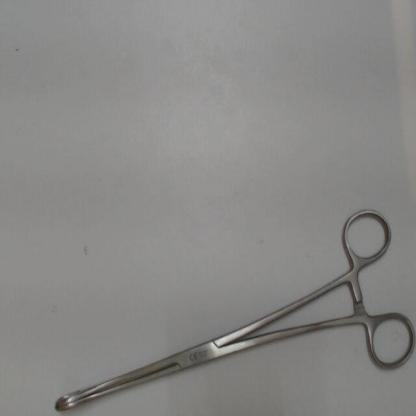Sponge Forceps: (49, 201, 416, 415)
